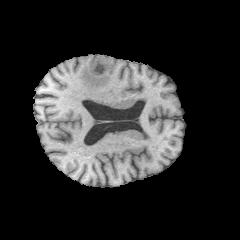glioma: (79, 57, 113, 96)
